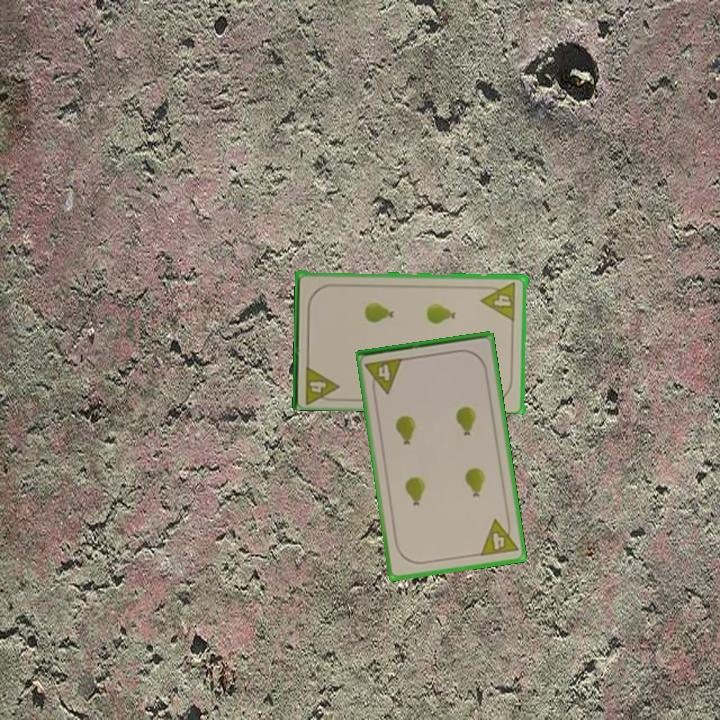4p: (477, 514, 521, 559), (362, 354, 406, 398), (479, 278, 519, 323), (302, 360, 342, 405)
